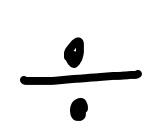div: (20, 37, 142, 122)
